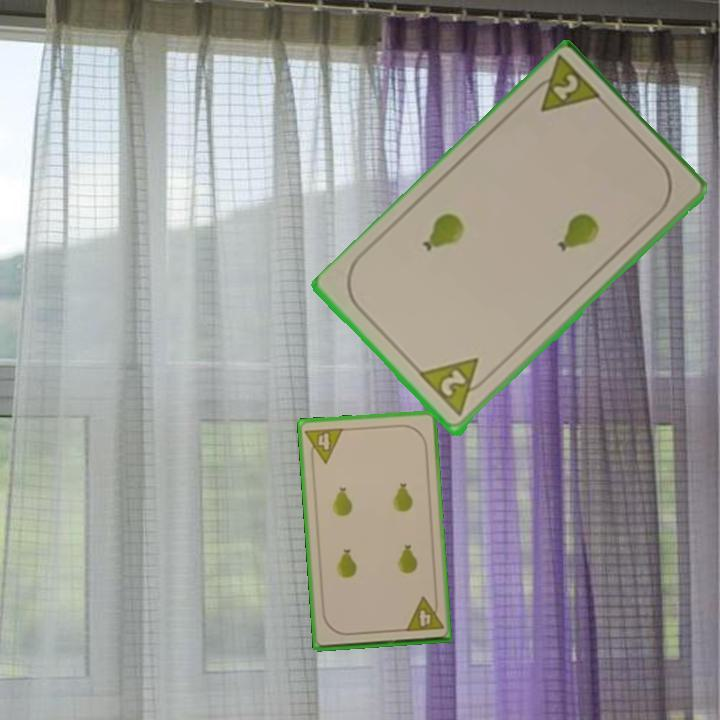2p: (522, 54, 606, 116), (417, 354, 495, 420)
4p: (302, 424, 346, 467), (401, 593, 446, 634)
